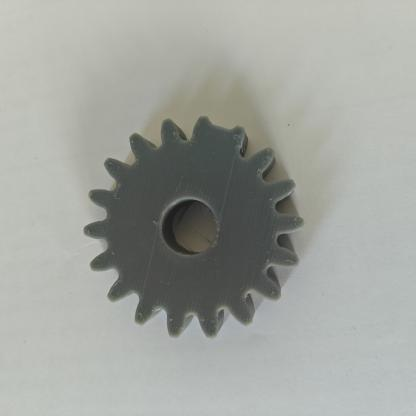defect: (182, 99, 253, 172)
gear: (68, 96, 327, 376)
